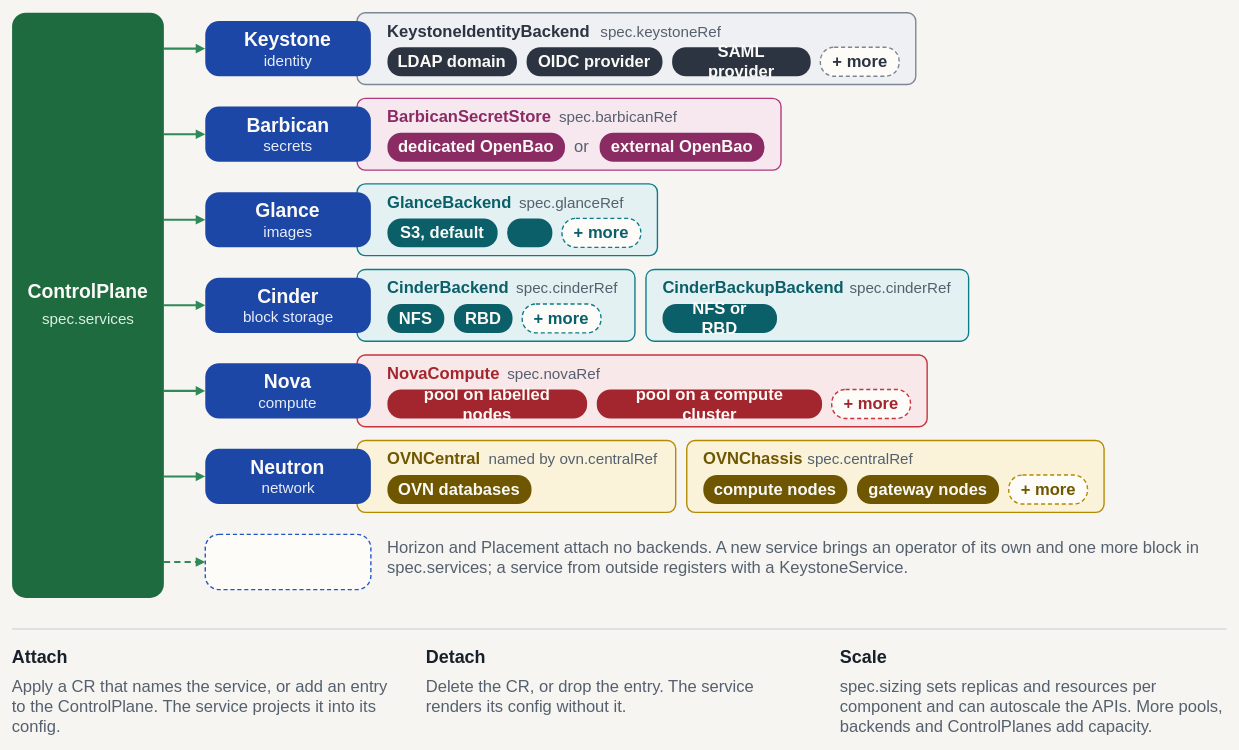
Some shapes in this 1239 by 750 pixel diagram are drawn without their labels. The box of each missing label's shape, as (x1, y1, x2, y2) in pixels:
+ service: (204, 533, 371, 590)
S3: (507, 218, 552, 247)
